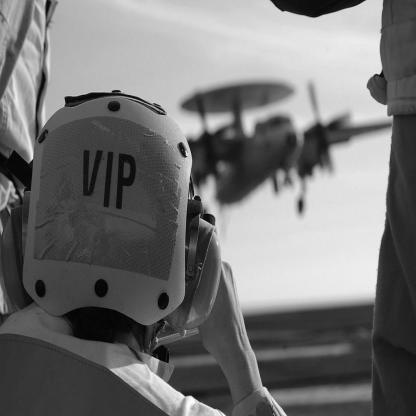E2: (177, 76, 394, 242)
